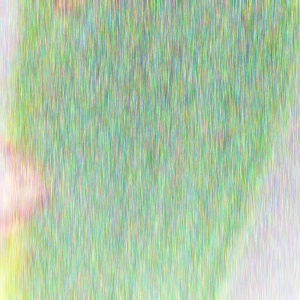Brown_Spot: (1, 125, 65, 248)
